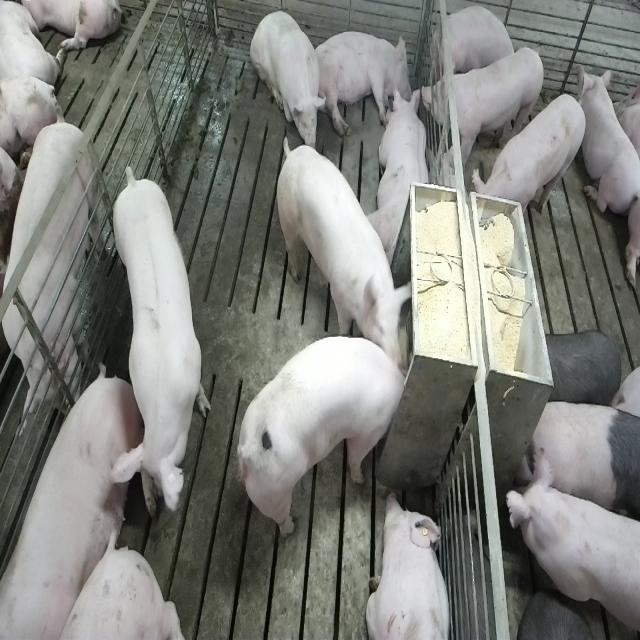Feeding: (235, 338, 409, 543), (275, 133, 410, 376)
Lateral_lying: (4, 362, 153, 636), (313, 29, 412, 138)
Sitting: (250, 8, 328, 152)
Standing: (110, 157, 208, 528), (0, 106, 102, 425), (502, 451, 638, 640), (473, 92, 588, 237), (421, 42, 545, 171), (522, 400, 638, 528)
Sternal_lying: (365, 490, 453, 640), (372, 86, 433, 262), (580, 66, 638, 222)
